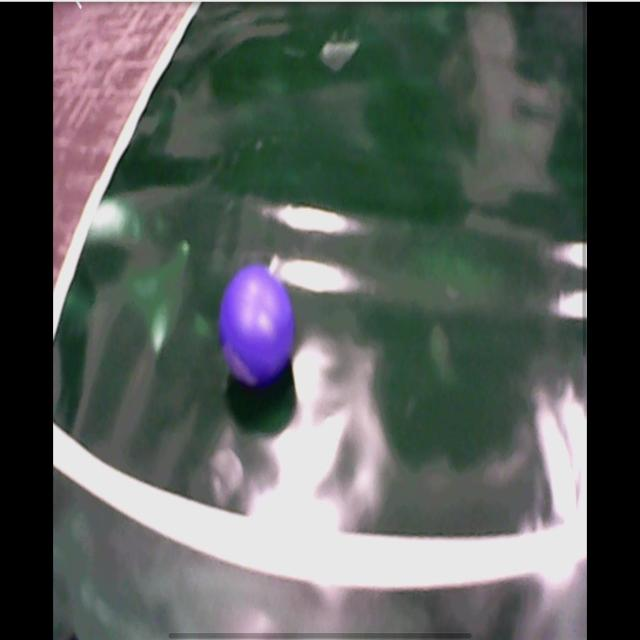ball: (222, 268, 295, 385)
